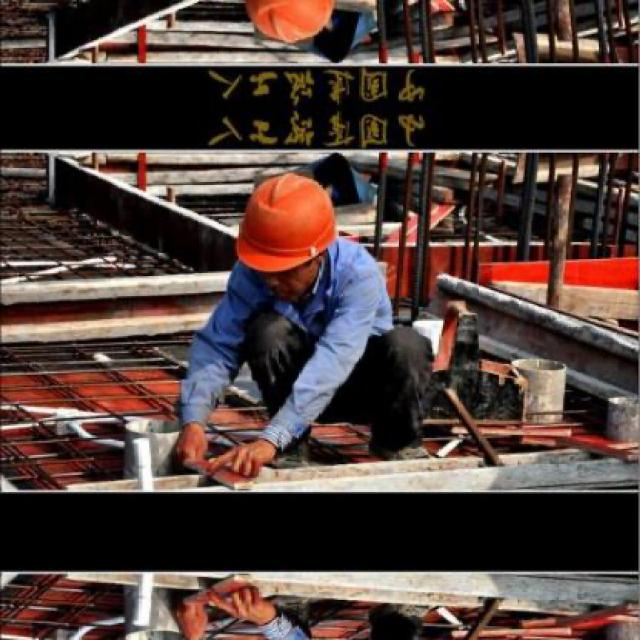helmet: (229, 166, 348, 298), (229, 0, 349, 51)
